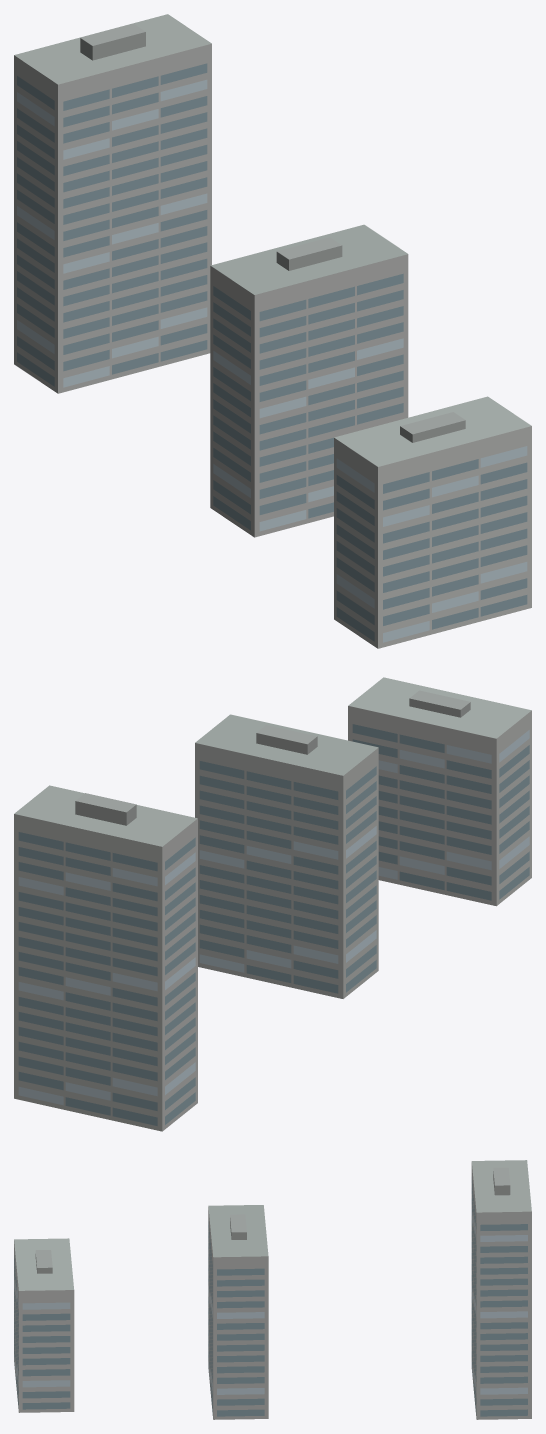
The model's file is apt-a15681104.glb.
3 views of the same model, one above another, from view 1: azimuth 30°, elevation 25°; view 2: azimuth 150°, elevation 25°; view 3: azimuth 270°, elevation 25° (orthographic). The views are drawn at different scales.
Visible parts, largest first — view 1: apt-a15681104; view 2: apt-a15681104; view 3: apt-a15681104.
Boxes of the visible parts, x1,y1,x2,y2 form: apt-a15681104: [14, 14, 531, 648]; apt-a15681104: [14, 677, 531, 1131]; apt-a15681104: [14, 1160, 531, 1419].
Bounding box in the file's own units: 29.99 × 51 × 110.
